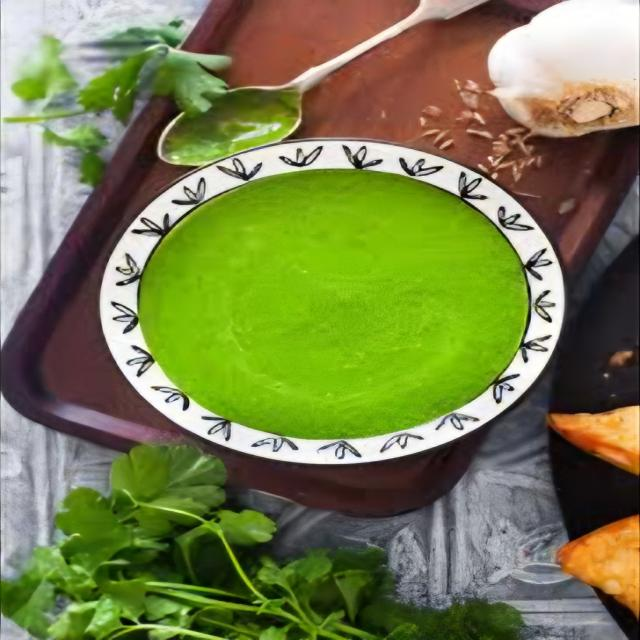GREEN CHUTNEY: (140, 170, 528, 438)
